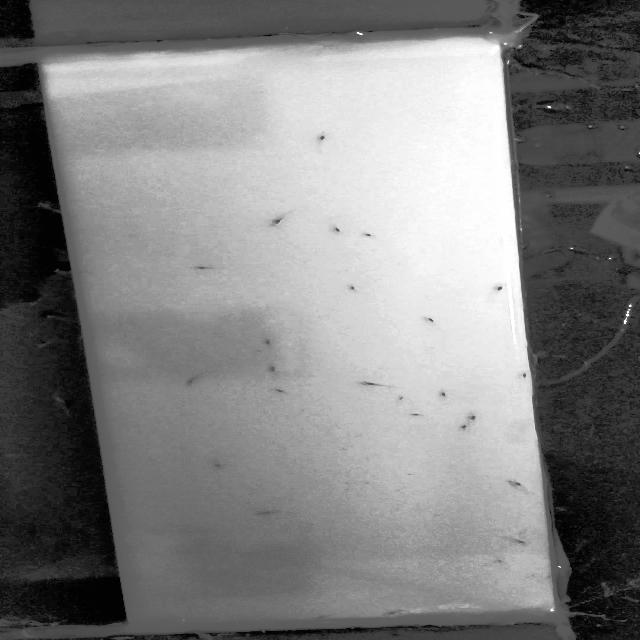shrimp: (495, 536, 537, 547), (358, 377, 389, 391), (322, 222, 347, 238), (360, 226, 383, 243), (306, 131, 338, 143), (251, 335, 283, 347), (266, 214, 290, 229), (262, 361, 286, 376), (341, 281, 366, 295), (179, 374, 204, 388), (253, 508, 288, 518), (457, 411, 488, 422), (200, 461, 231, 472), (374, 608, 408, 618), (404, 411, 431, 422), (190, 262, 215, 273), (431, 389, 455, 400), (451, 423, 477, 432), (491, 282, 510, 294), (269, 385, 287, 397), (515, 369, 530, 382), (510, 476, 526, 488), (311, 612, 331, 621), (423, 313, 438, 324)
